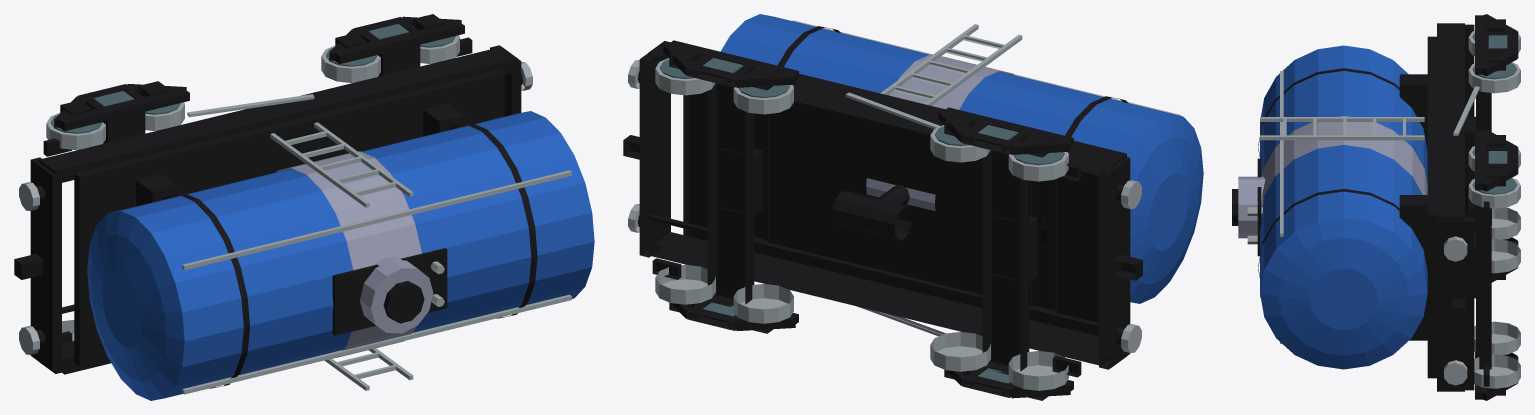
3 views of the same model, side by side, from view 1: azimuth 30°, elevation 25°; view 2: azimuth 150°, elevation 25°; view 3: azimuth 270°, elevation 25° (orthographic). The views are drawn at different scales.
Parts seen in each view (by area): view 1: default_tank, default_frame, default_solebar1, default_band, default_bogie-1, default_bogie1, default_headstock-1, default_walkway, default_dome, default_handrail1, default_handrail-1, default_buffers-1 (+10 smaller); view 2: default_frame, default_tank, default_bogie1, default_bogie-1, default_solebar-1, default_headstock1, default_headstock-1, default_solebar1, default_band, default_brake_cylinder, default_brake_pipe, default_buffers-1 (+8 smaller); view 3: default_tank, default_bogie1, default_bogie-1, default_solebar1, default_headstock1, default_band, default_frame, default_saddle2.3, default_buffers1, default_dome, default_saddle-2.3, default_ladder11 (+9 smaller).
Boxes of the visible parts, <box> form: default_tank: <box>87,111,594,400</box>; default_frame: <box>74,69,504,366</box>; default_solebar1: <box>39,46,517,183</box>; default_band: <box>276,151,421,358</box>; default_bogie-1: <box>46,81,189,374</box>; default_bogie1: <box>321,14,464,82</box>; default_headstock-1: <box>30,157,61,371</box>; default_walkway: <box>332,248,447,335</box>; default_dome: <box>360,256,433,333</box>; default_handrail1: <box>182,170,571,270</box>; default_handrail-1: <box>182,294,571,394</box>; default_buffers-1: <box>14,182,45,354</box>; default_frame: <box>683,91,1098,336</box>; default_tank: <box>720,14,1203,303</box>; default_bogie1: <box>655,40,798,333</box>; default_bogie-1: <box>930,107,1073,400</box>; default_solebar-1: <box>648,232,1126,366</box>; default_headstock1: <box>639,53,670,257</box>; default_headstock-1: <box>1099,157,1130,369</box>; default_solebar1: <box>648,41,1126,177</box>; default_band: <box>866,54,1014,211</box>; default_brake_cylinder: <box>832,191,912,240</box>; default_brake_pipe: <box>649,214,1098,329</box>; default_buffers-1: <box>1114,180,1142,352</box>; default_tank: <box>1260,45,1427,369</box>; default_bogie1: <box>1468,129,1520,400</box>; default_bogie-1: <box>1468,14,1520,282</box>; default_solebar1: <box>1437,23,1464,220</box>; default_headstock1: <box>1437,217,1474,390</box>; default_band: <box>1261,116,1427,206</box>; default_frame: <box>1427,36,1436,378</box>; default_saddle2.3: <box>1399,195,1427,340</box>; default_buffers1: <box>1444,236,1467,385</box>; default_dome: <box>1238,176,1265,238</box>; default_saddle-2.3: <box>1399,74,1427,150</box>; default_ladder11: <box>1260,135,1424,140</box>.
Size of the model in its own units: 8.2 by 3.9 by 4.65.
